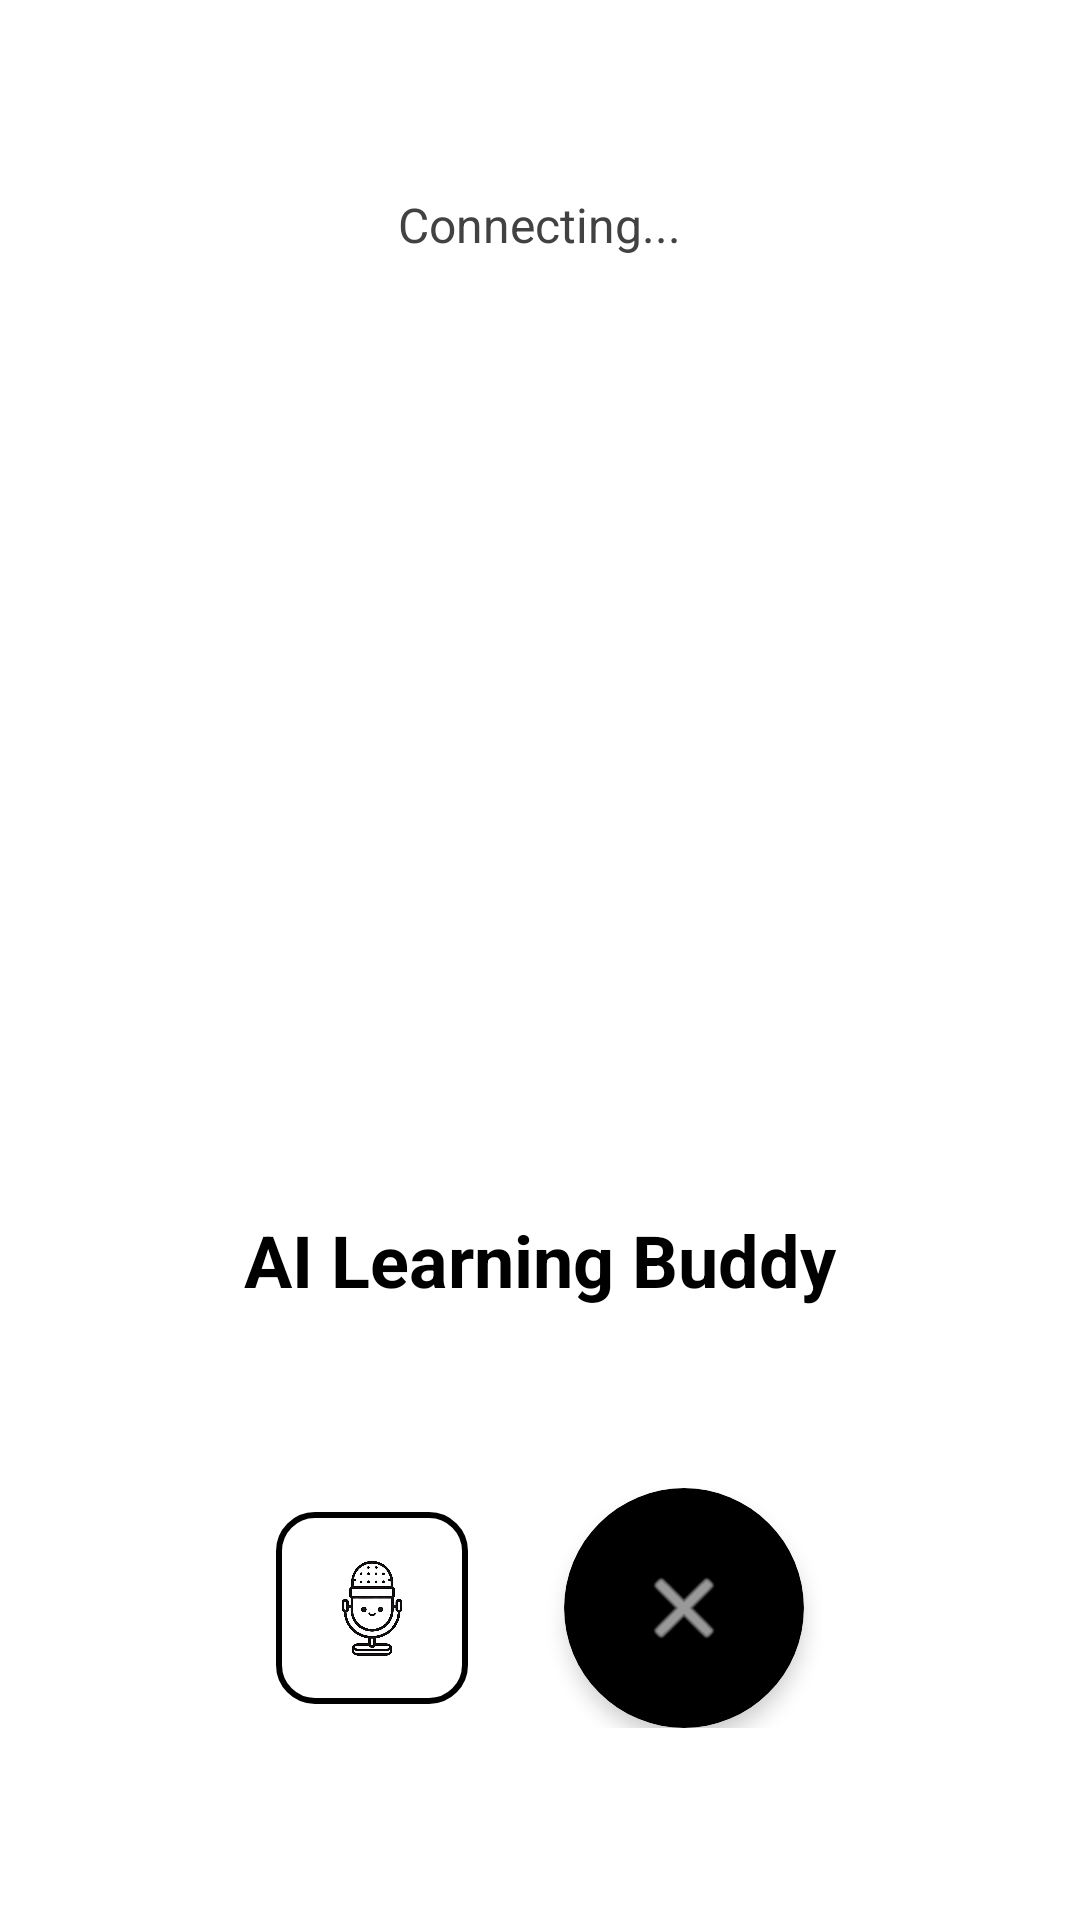

Icons on this 1080x1920 Android screen, each with its box as (x1, y1, x2, y2):
close clear cancel: (564, 1488, 804, 1728)
voice mic: (276, 1512, 468, 1704)
